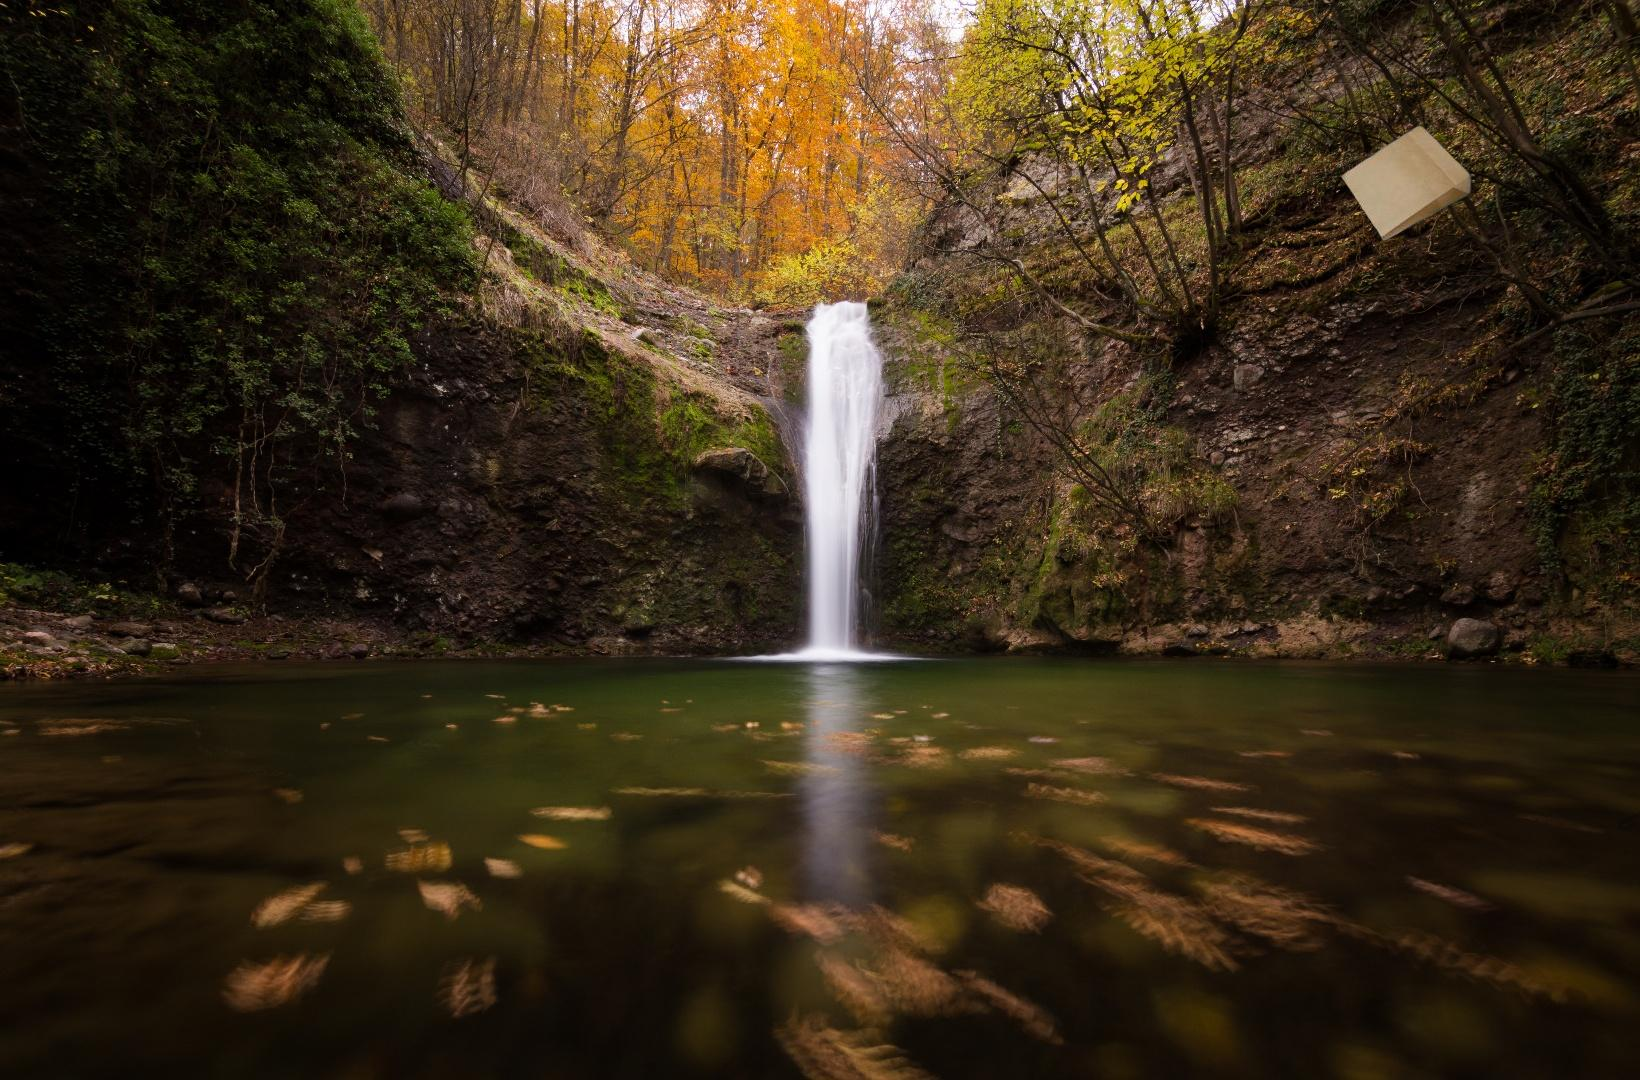paper-bag: (1193, 40, 1480, 340)
